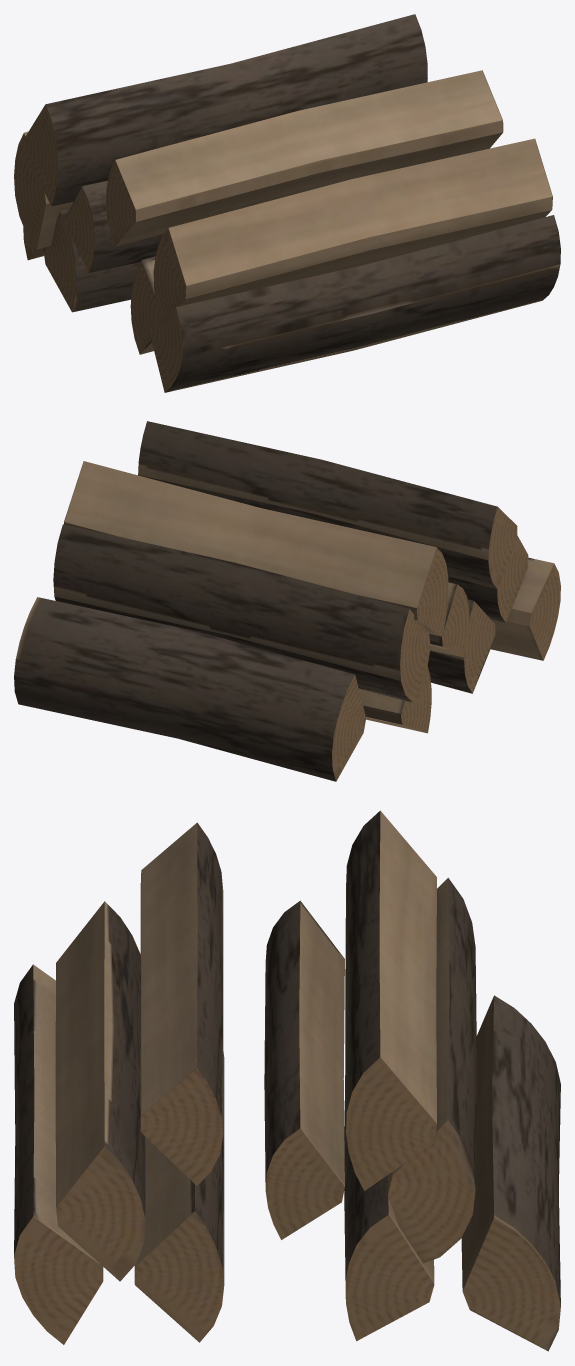
The model's file is woodpile.glb.
3 views of the same model, one above another, from view 1: azimuth 30°, elevation 25°; view 2: azimuth 150°, elevation 25°; view 3: azimuth 270°, elevation 25° (orthographic). The views are drawn at different scales.
Parts seen in each view (by area): view 1: Pile; view 2: Pile; view 3: Pile.
Boxes of the visible parts, box(x1,y1,x2,y2) form: Pile: box(14, 14, 560, 392); Pile: box(14, 421, 560, 781); Pile: box(14, 810, 560, 1351).
Bounding box in the file's own units: 0.5644 × 0.2936 × 0.5026.
Materials: 1 (1 with a texture image).
